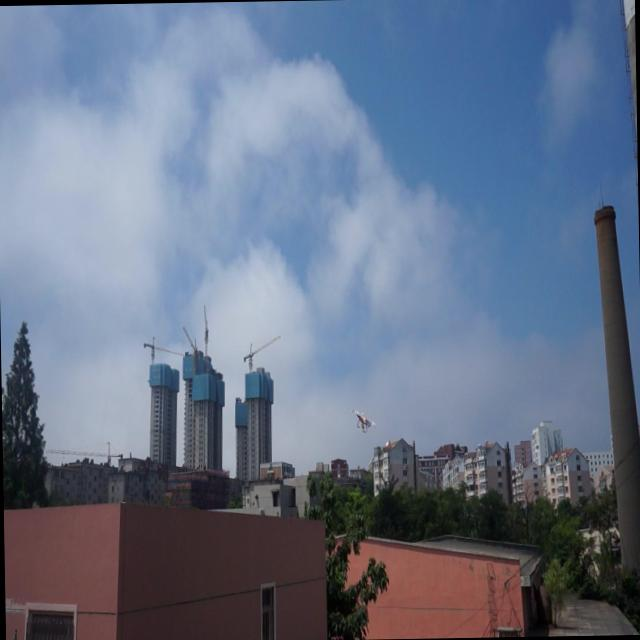drone: (349, 404, 377, 437)
